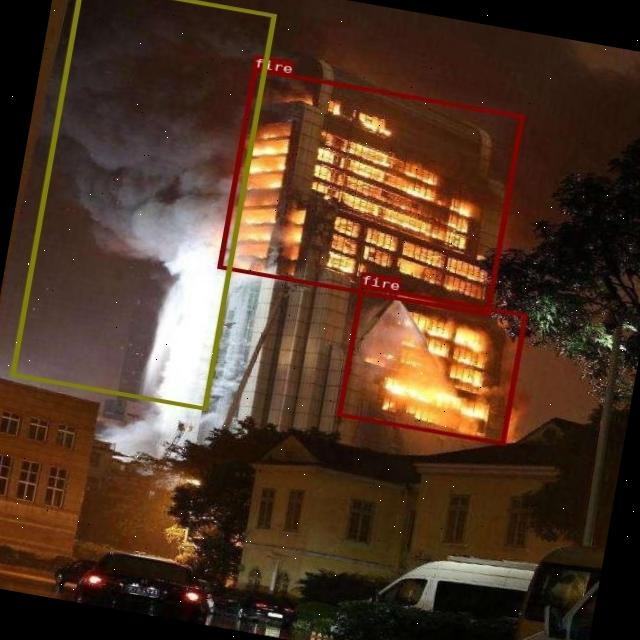fire: (215, 66, 522, 315), (336, 284, 526, 444)
smoke: (8, 0, 275, 409)
